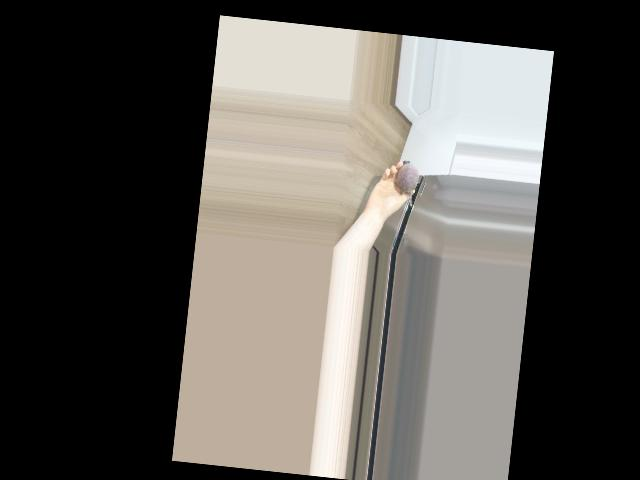beet: (394, 159, 419, 205)
